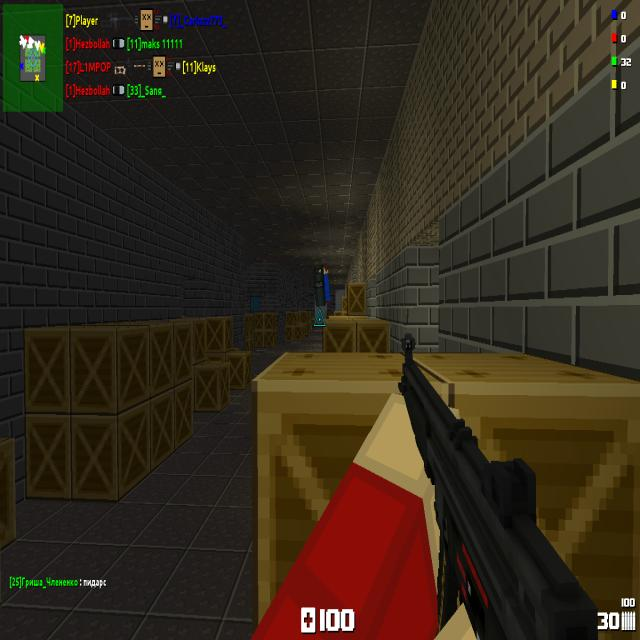enemy: (319, 263, 331, 304)
